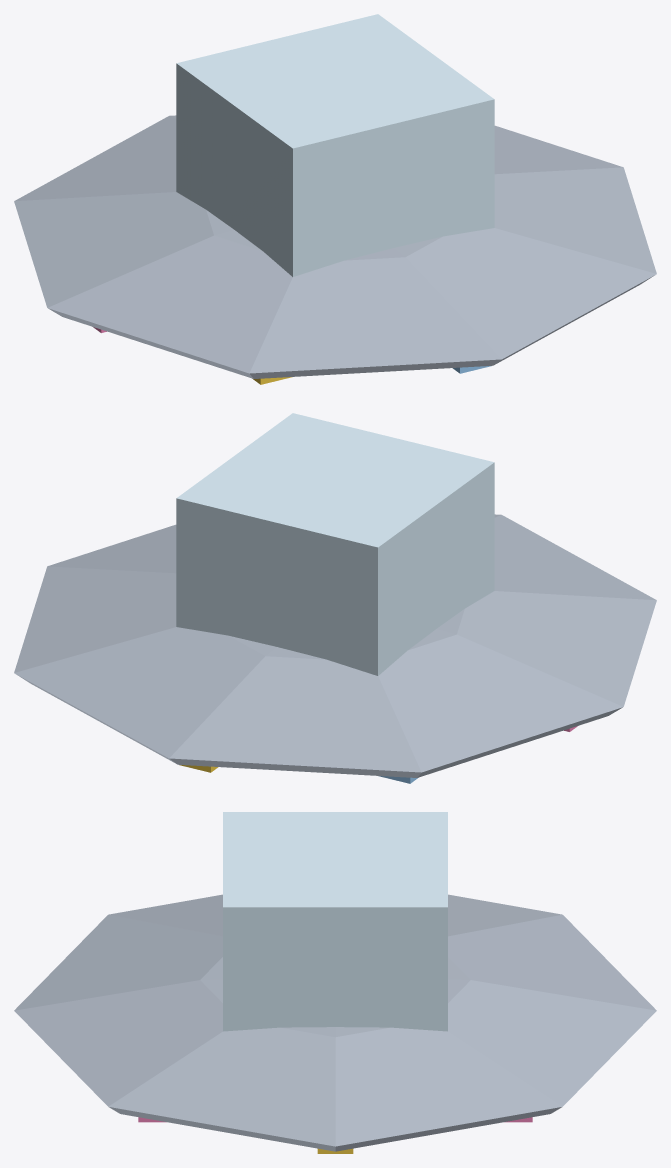
File: ufo.glb
The picture shows the model from 3 angles, top to bottom: view 1: azimuth 30°, elevation 25°; view 2: azimuth 150°, elevation 25°; view 3: azimuth 270°, elevation 25°; orthographic projection. The views are drawn at different scales.
Visible parts, largest first — view 1: ufo_metal, ufo_glass; view 2: ufo_metal, ufo_glass; view 3: ufo_metal, ufo_glass.
Boxes of the visible parts, x1=… form: ufo_metal: x1=14, y1=115, x2=656, y2=378; ufo_glass: x1=176, y1=14, x2=494, y2=276; ufo_metal: x1=14, y1=514, x2=656, y2=777; ufo_glass: x1=176, y1=413, x2=494, y2=675; ufo_metal: x1=14, y1=894, x2=656, y2=1151; ufo_glass: x1=223, y1=812, x2=447, y2=1031.
Bounding box in the file's own units: 1.9 × 0.665 × 1.9.
